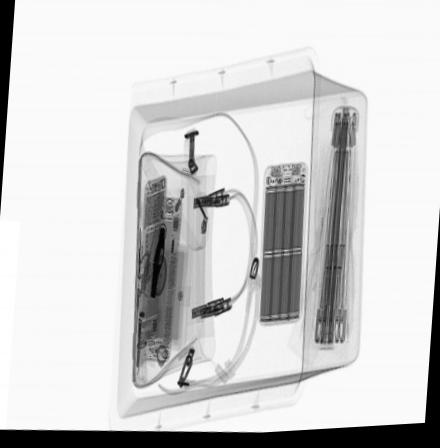Powerbank: (256, 163, 308, 329)
